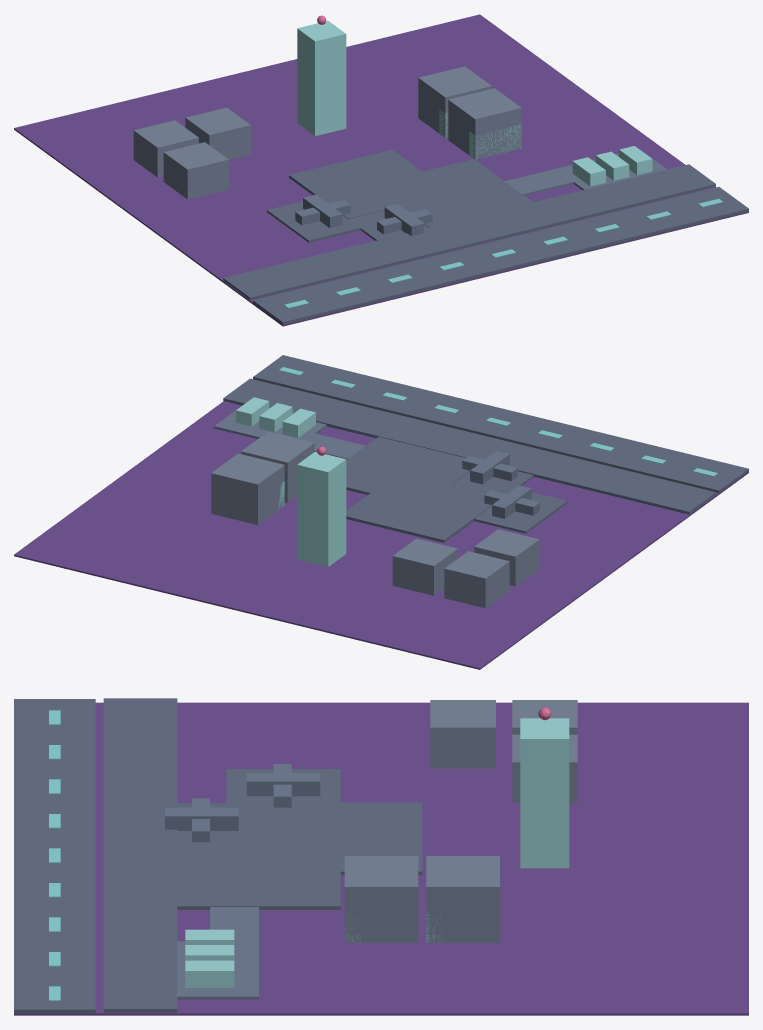
Rendered from stage_13.glb.
3 views of the same model, one above another, from view 1: azimuth 30°, elevation 25°; view 2: azimuth 150°, elevation 25°; view 3: azimuth 270°, elevation 25° (orthographic). The views are drawn at different scales.
Parts seen in each view (by area): view 1: geometry_0; view 2: geometry_0; view 3: geometry_0.
Part boxes in pixels (left/top/right/bottom): geometry_0: left=14, top=14, right=748, bottom=326; geometry_0: left=14, top=355, right=748, bottom=669; geometry_0: left=14, top=698, right=748, bottom=1015.
Size of the model in its own units: 9 by 2.06 by 9.
